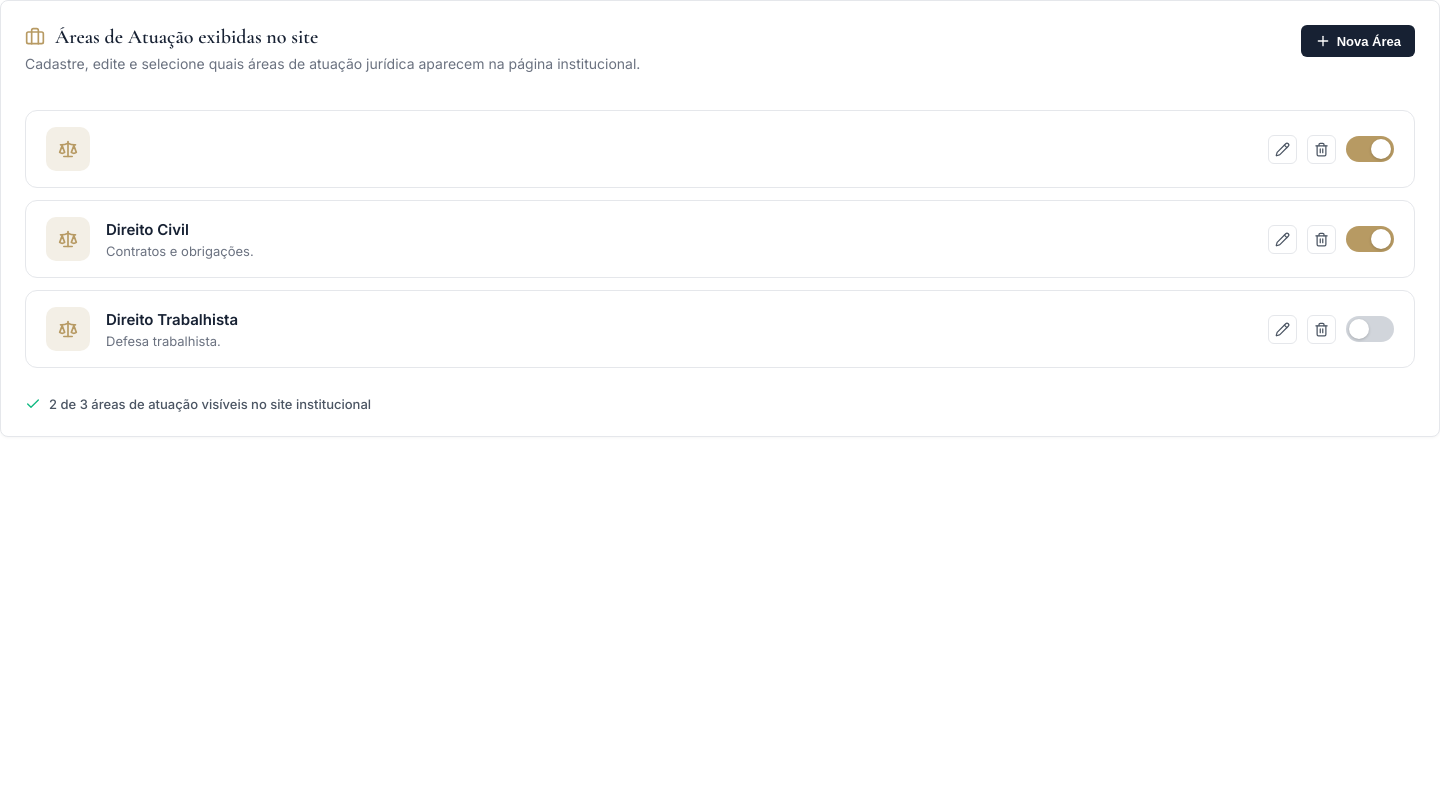
Componentes UI do Módulo Site › AreasTab › permite editar uma área existente e cancelar o formulário
Click the button named "Editar Direito Trabalhista": {"x": 1282, "y": 329} [1268, 314, 1297, 344]
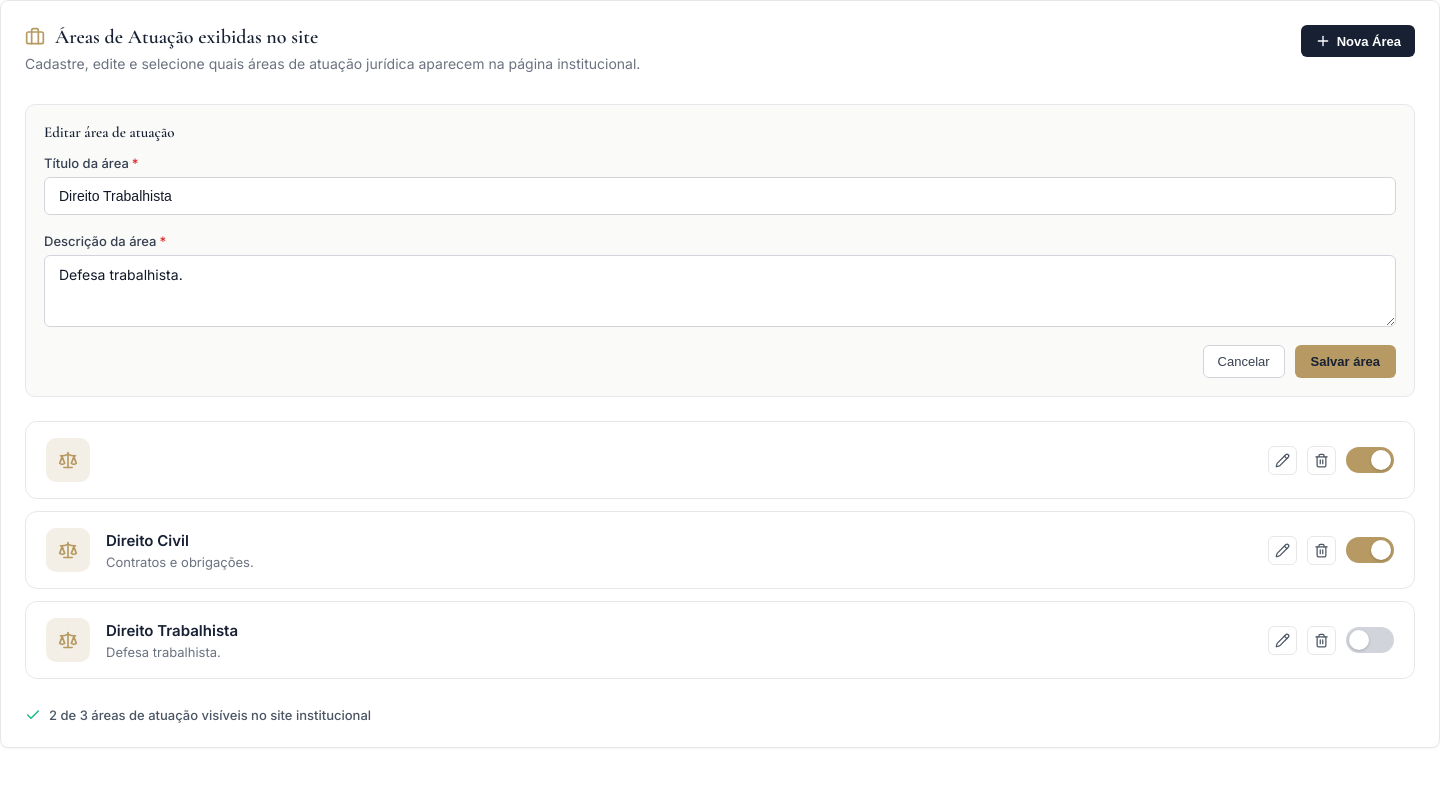
Expected: the heading "Editar área de atuação" is shown, [44, 123, 174, 141]
Expected: the field labelled "Título da área*" holds "Direito Trabalhista"
Replace the text in the field labelled "Título da área*" with "Direito Empresarial": {"x": 720, "y": 196} [44, 177, 1396, 215]
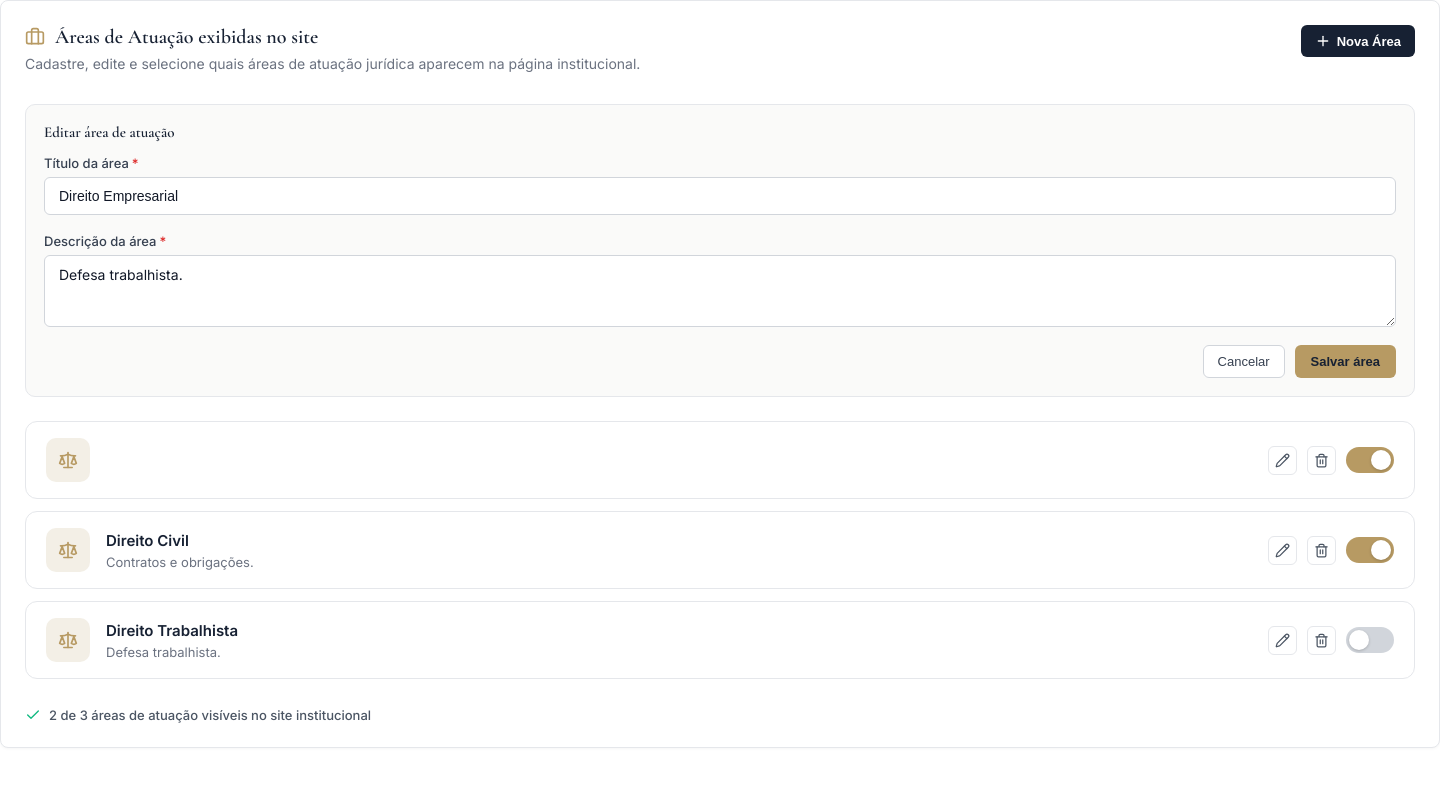
Click the button "Salvar área": {"x": 1345, "y": 362} [1295, 345, 1396, 378]
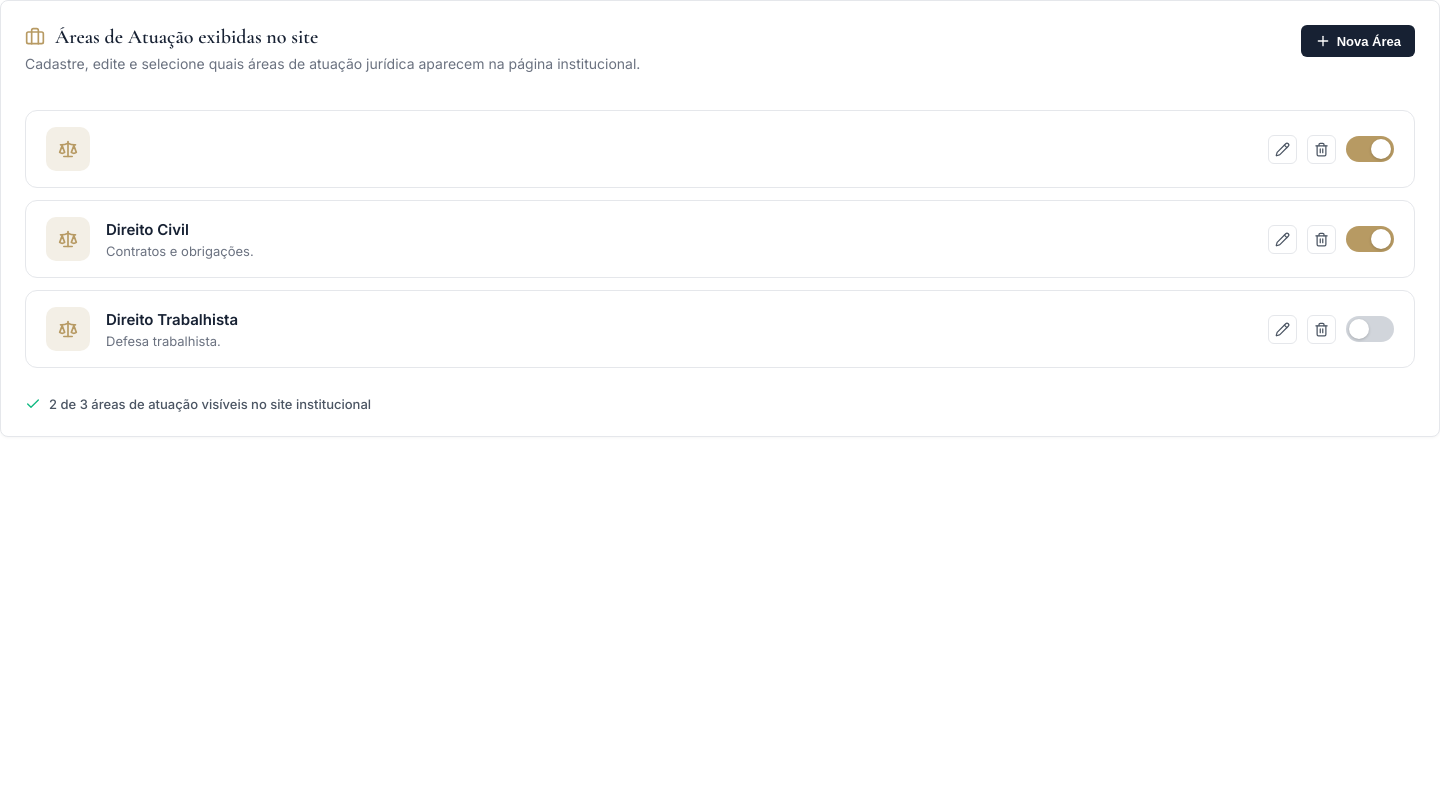
Click the button named "editar": {"x": 1282, "y": 149} [1268, 134, 1297, 164]
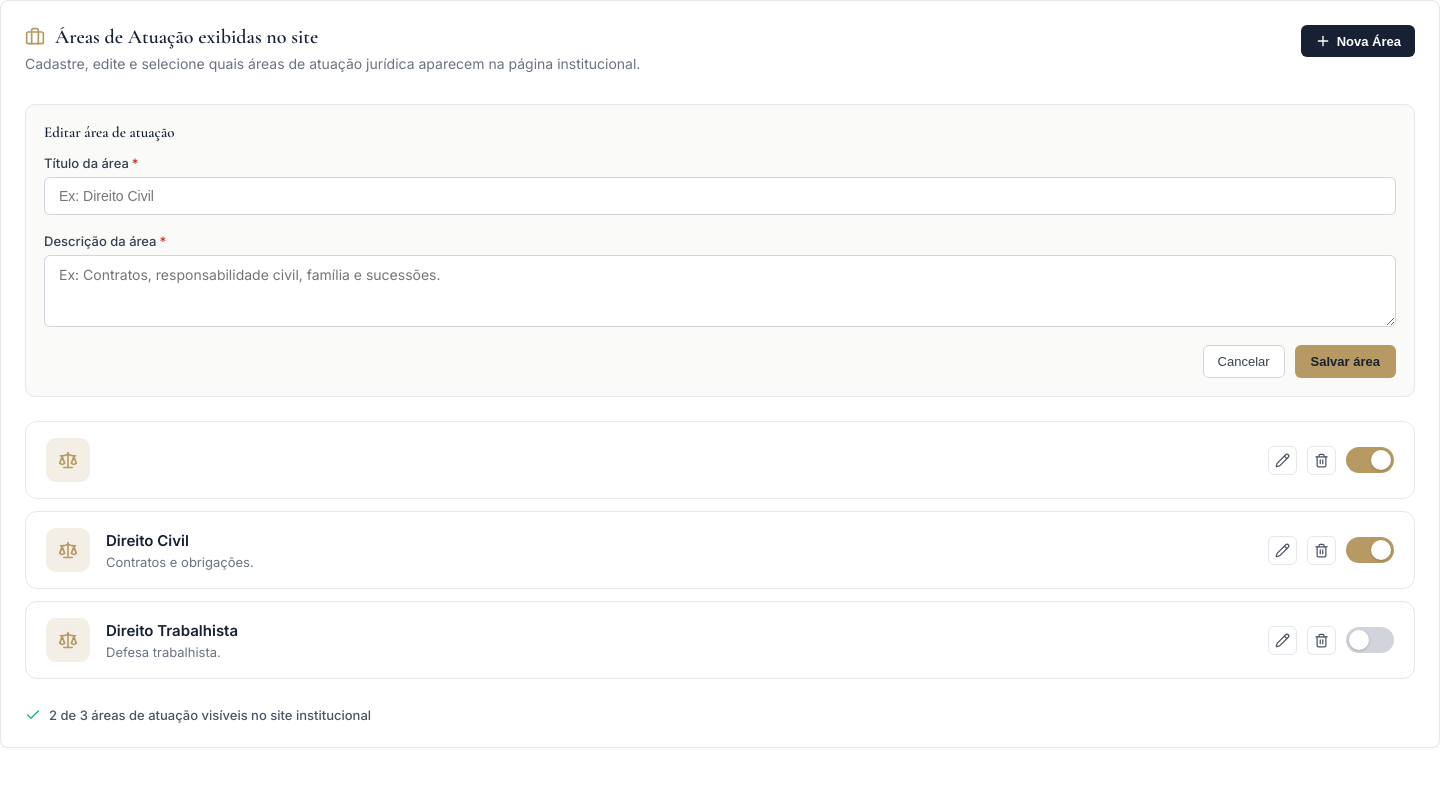
Click the button "Cancelar": {"x": 1244, "y": 362} [1203, 345, 1285, 378]
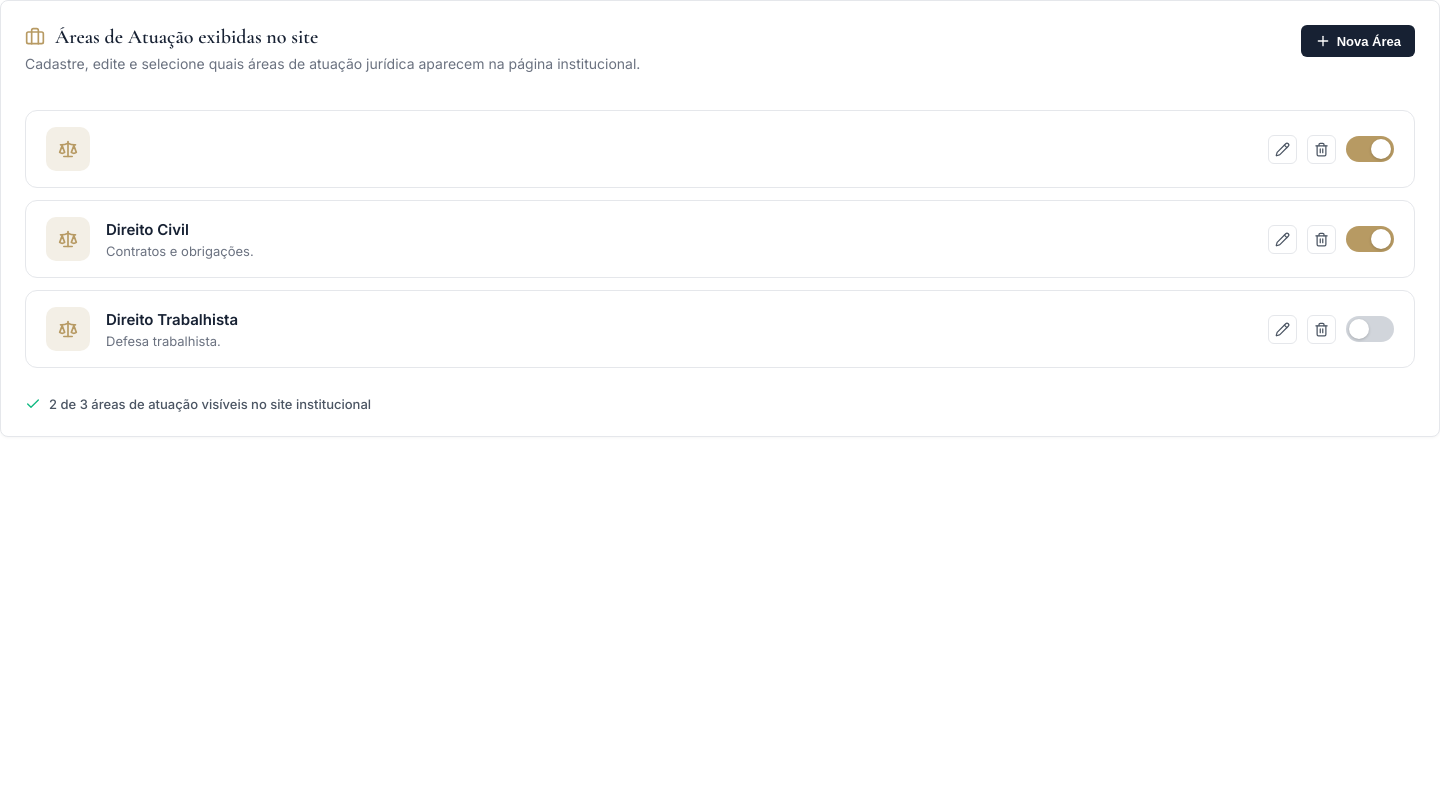
Expected: the heading "Editar área de atuação" is gone
